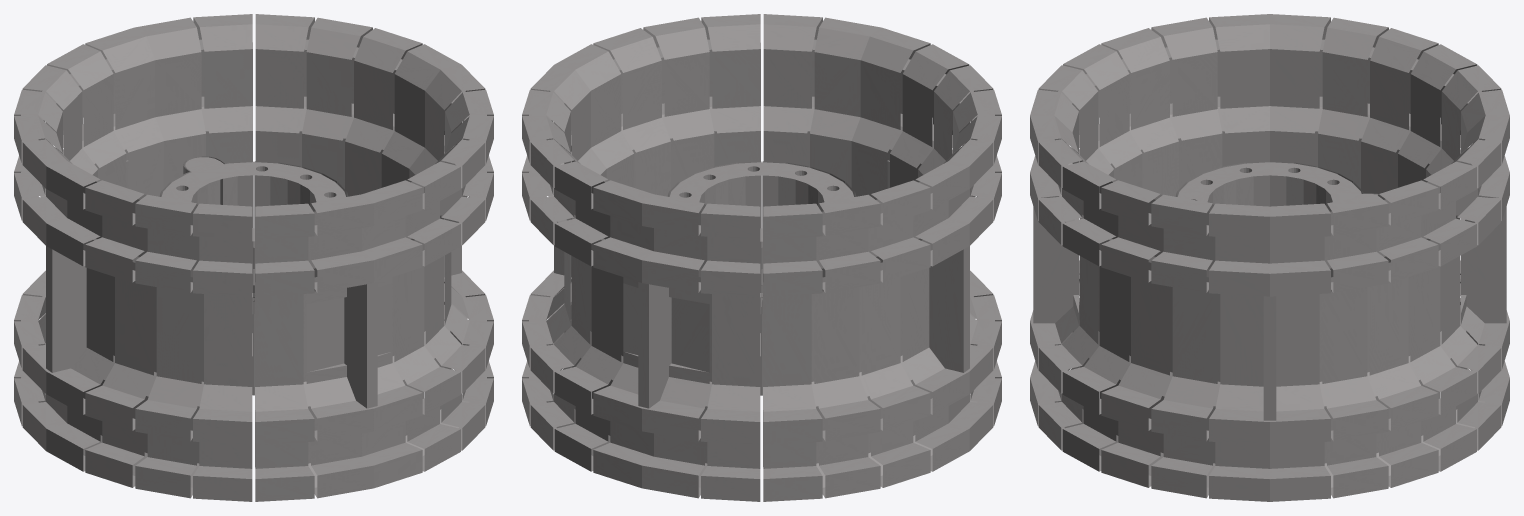
3 views of the same model, side by side, from view 1: azimuth 30°, elevation 25°; view 2: azimuth 150°, elevation 25°; view 3: azimuth 270°, elevation 25° (orthographic).
Parts seen in each view (by area): view 1: node; view 2: node; view 3: node.
Boxes of the visible parts, box(x1,y1,x2,y2) form: node: box(14, 14, 493, 501); node: box(522, 14, 1001, 501); node: box(1030, 14, 1509, 501).
Bounding box in the file's own units: 75.5 × 49.5 × 75.5.
Materials: 1 (1 with a texture image).
